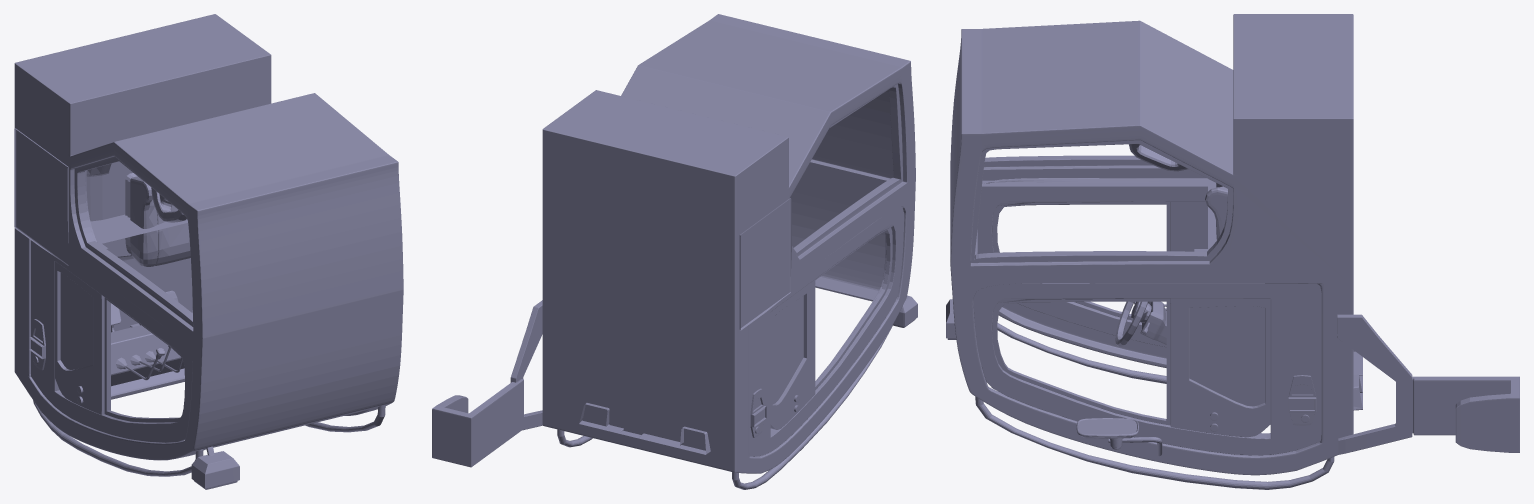
File: cabin_LowPoly.obj
3 views of the same model, side by side, from view 1: azimuth 30°, elevation 25°; view 2: azimuth 150°, elevation 25°; view 3: azimuth 270°, elevation 25° (orthographic). The views are drawn at different scales.
Parts seen in each view (by area): view 1: cabin_LowPoly\Facets; view 2: cabin_LowPoly\Facets; view 3: cabin_LowPoly\Facets.
Boxes of the visible parts, <box> form: cabin_LowPoly\Facets: <box>14,14,403,489</box>; cabin_LowPoly\Facets: <box>432,14,917,489</box>; cabin_LowPoly\Facets: <box>946,14,1519,489</box>.
Size of the model in its own units: 1.22 by 1.66 by 2.31.
